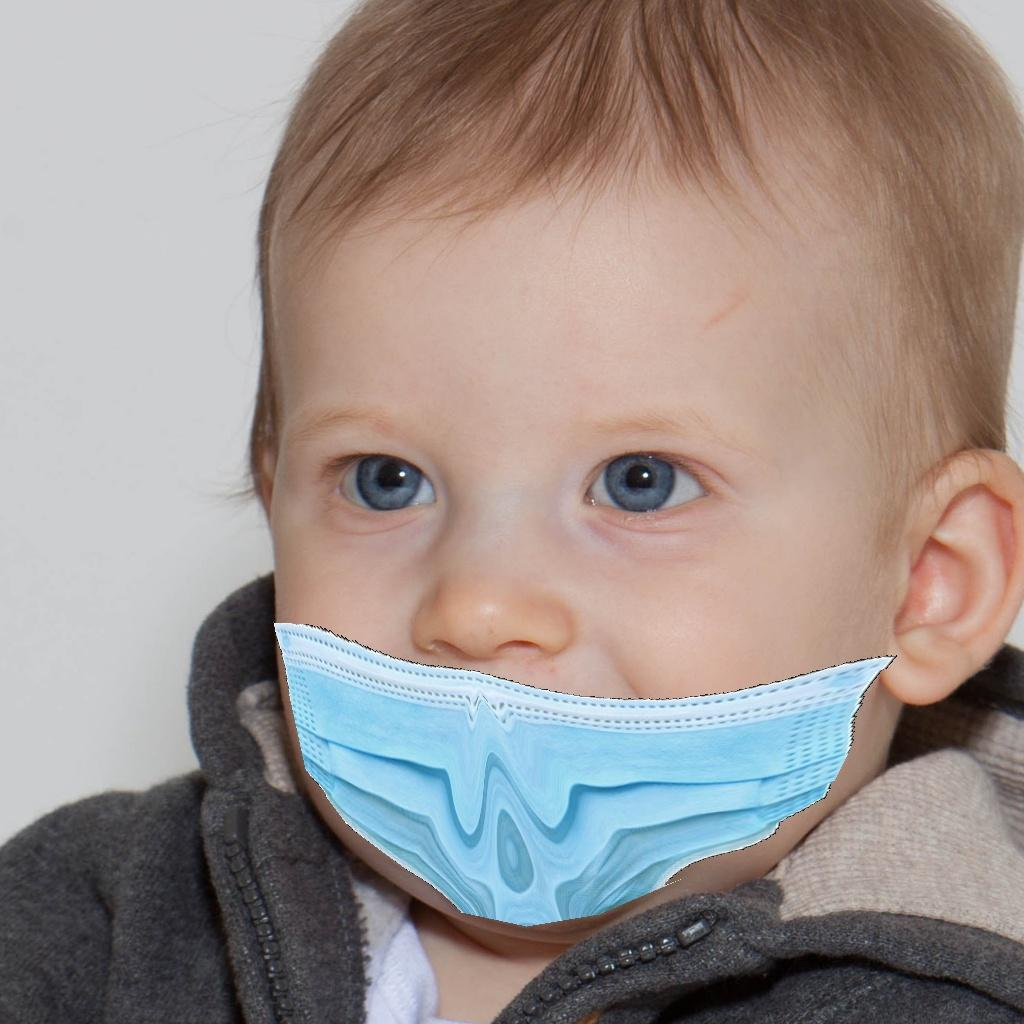Máscara Incorreta: (267, 302, 861, 900)
